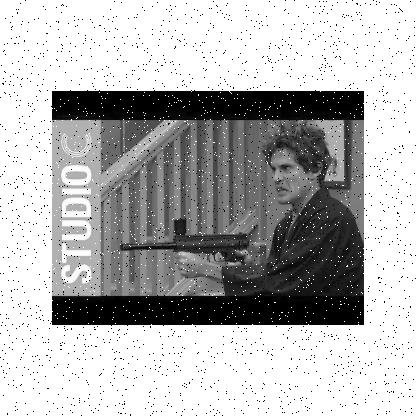gun: (116, 224, 254, 288)
